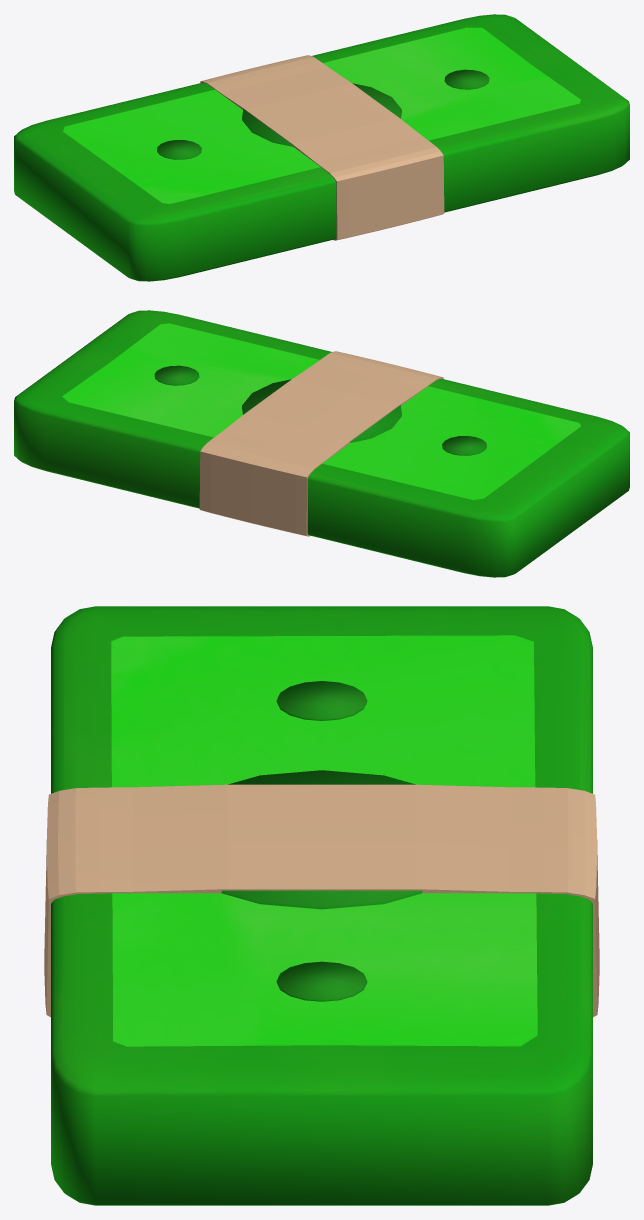
File: NewMoneyFBX.fbx
3 views of the same model, one above another, from view 1: azimuth 30°, elevation 25°; view 2: azimuth 150°, elevation 25°; view 3: azimuth 270°, elevation 25° (orthographic). The views are drawn at different scales.
Visible parts, largest first — view 1: Dollar Low; view 2: Dollar Low; view 3: Dollar Low.
Boxes of the visible parts, x1,y1,x2,y2 form: Dollar Low: [14, 14, 629, 281]; Dollar Low: [14, 310, 629, 577]; Dollar Low: [44, 606, 599, 1205].
Bounding box in the file's own units: 64 × 8.35 × 30.74.
